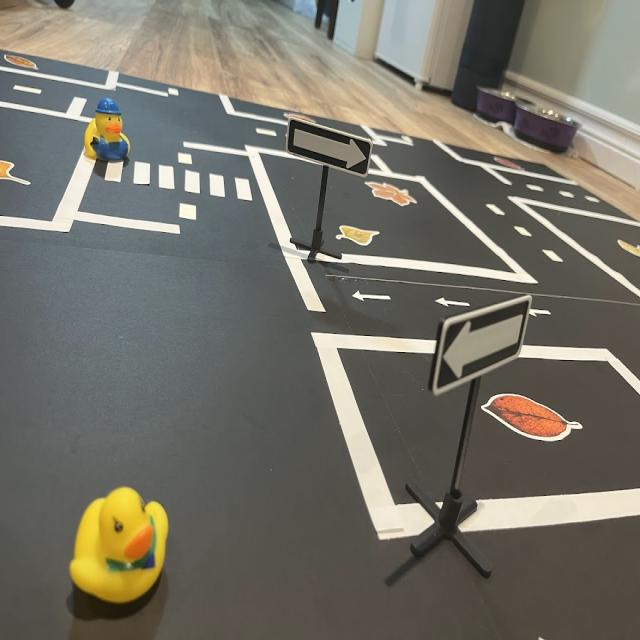duck_regular: (70, 488, 169, 601)
duck_specialty: (84, 97, 132, 163)
road_crosswalk: (98, 160, 257, 206)
road_oneway: (349, 287, 396, 308), (435, 287, 474, 309), (527, 304, 556, 323)
sign_oneway_left: (432, 292, 533, 394)
sign_oneway_right: (287, 117, 373, 180)
